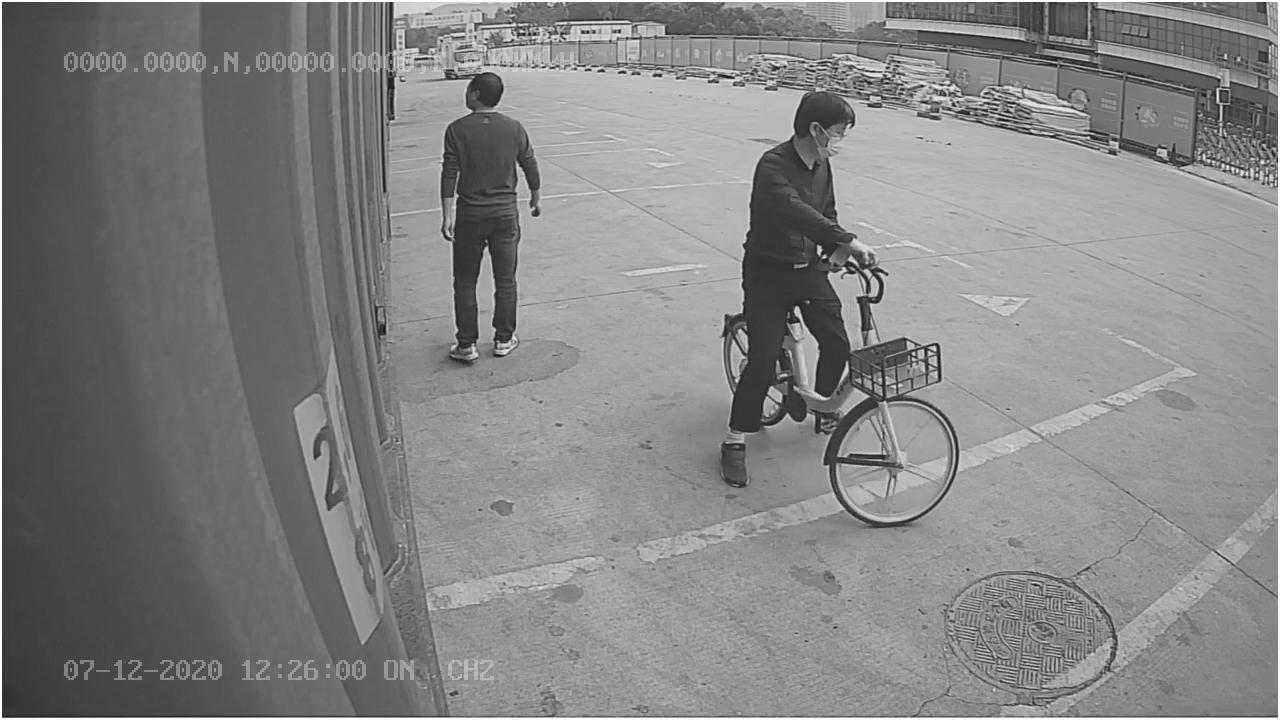person: (433, 69, 548, 367)
